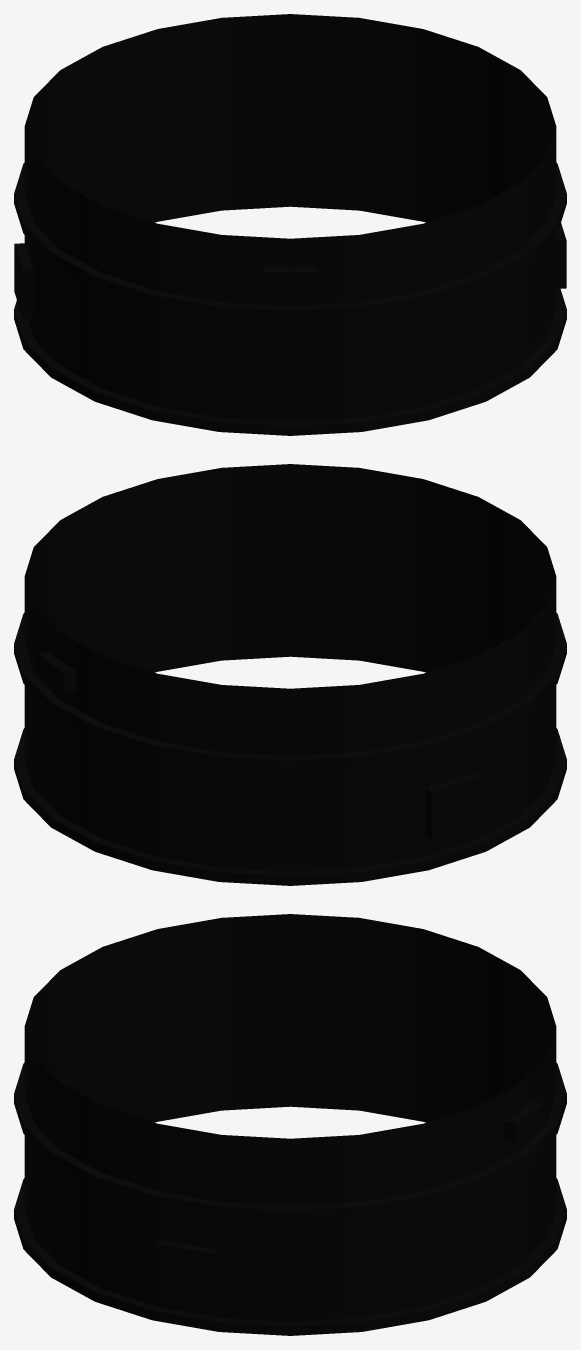
The model's file is hamal_fuel_tank_s1_1.obj.
3 renders of one model, top to bottom at view 1: azimuth 30°, elevation 25°; view 2: azimuth 150°, elevation 25°; view 3: azimuth 270°, elevation 25°, orthographic.
Visible parts, largest first — view 1: 1; view 2: 1; view 3: 1.
Boxes of the visible parts, x1,y1,x2,y2 form: 1: (14, 14, 566, 435); 1: (14, 464, 566, 885); 1: (14, 914, 566, 1335).
Size of the model in its own units: 1.3 by 0.5 by 1.3.
Materials: 1 (1 with a texture image).
